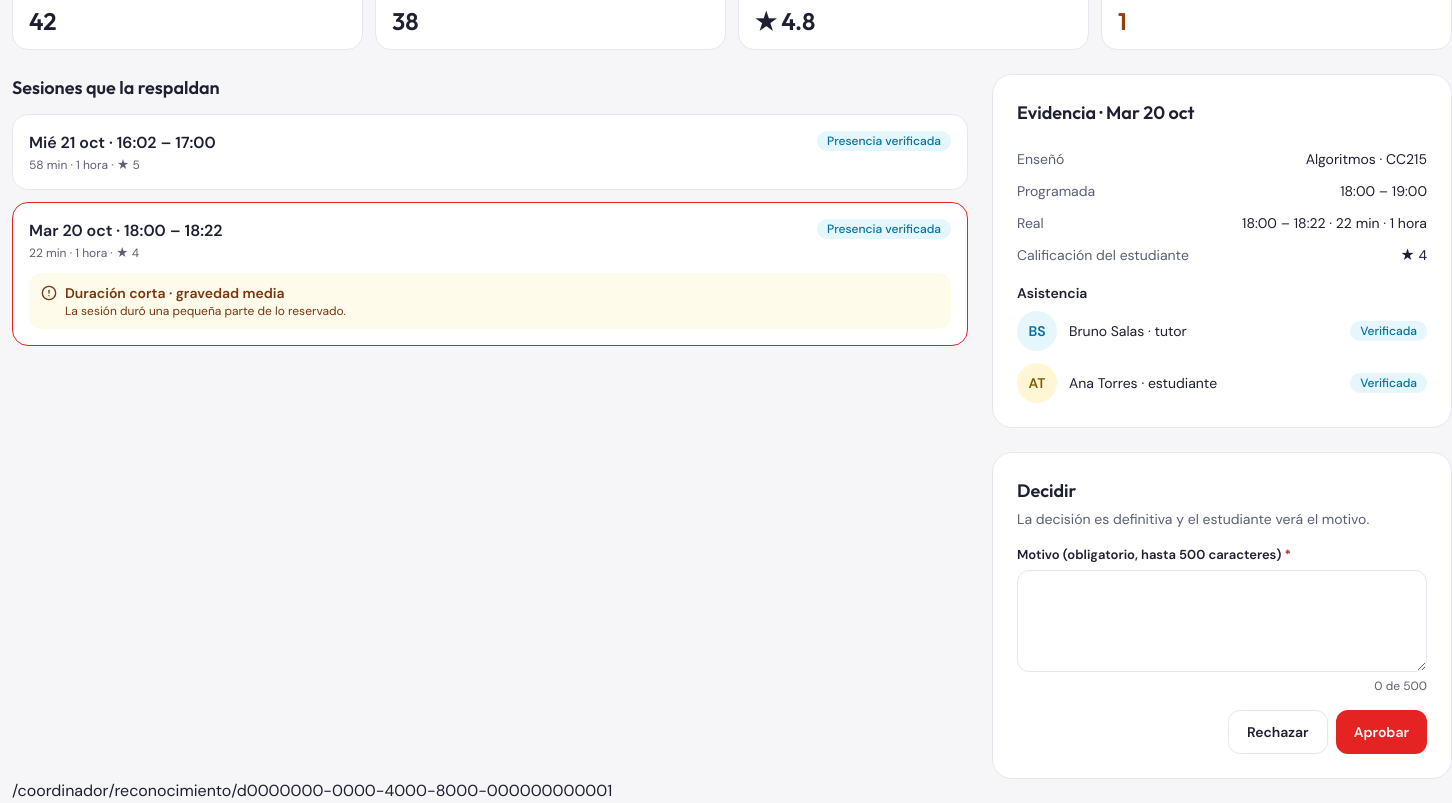
FE-51 deciding a recognition case › asks for the reason before anything is sent
(page scrolled)
Click the button "Aprobar": [1381, 732] box top-left (1336, 710), bottom-right (1427, 754)
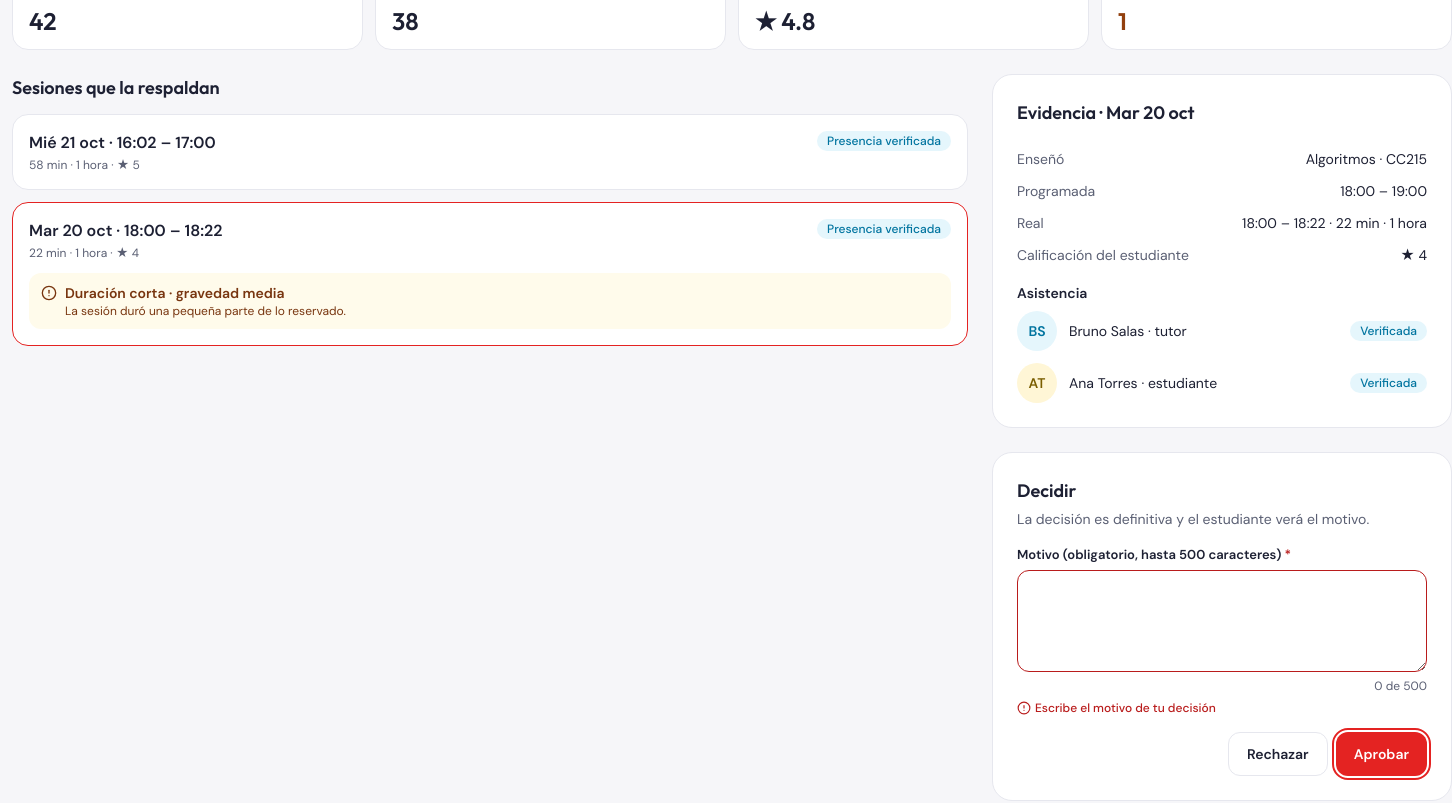
Check: the text "Escribe el motivo de tu decisión" is shown, box top-left (1035, 700), bottom-right (1216, 716)
